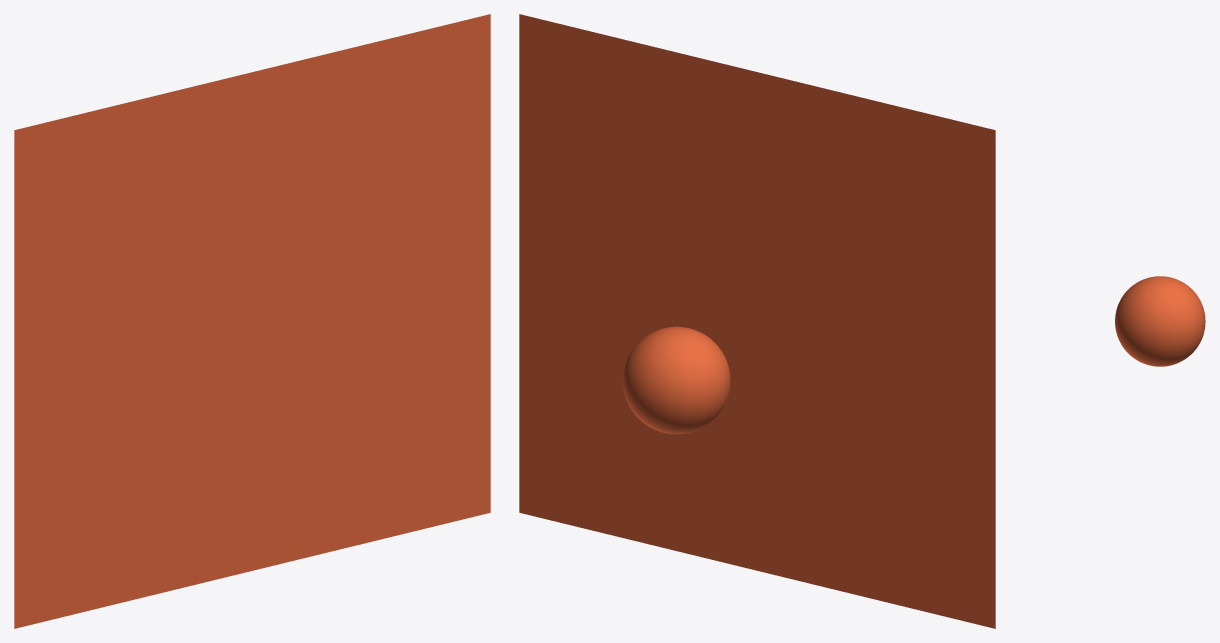
The picture shows the model from 3 angles, left to right: view 1: azimuth 30°, elevation 25°; view 2: azimuth 150°, elevation 25°; view 3: azimuth 270°, elevation 25°; orthographic projection. The views are drawn at different scales.
Parts seen in each view (by area): view 1: Plane; view 2: Plane, Икосфера.001; view 3: Икосфера.001.
Boxes of the visible parts, x1,y1,x2,y2 form: Plane: [14, 14, 490, 628]; Plane: [519, 14, 995, 628]; Икосфера.001: [623, 326, 730, 434]; Икосфера.001: [1115, 276, 1205, 366].
Size of the model in its own units: 10.22 by 10.22 by 4.
